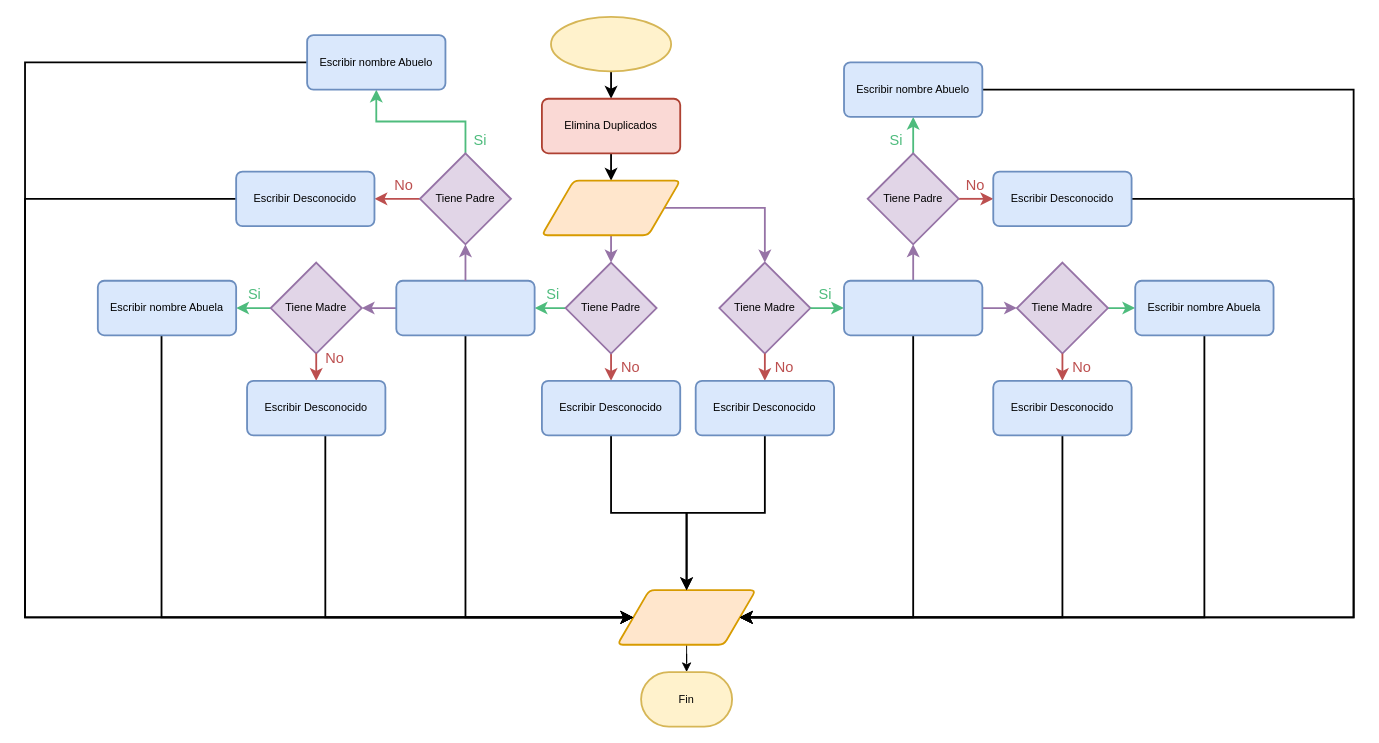
Image size: 1379x743. Some labels were removed from this diagram. The centre of each missing label's shape, as x and y in pixels:
"Comprueba Perro" goes at [611,207].
"Escribir nombre Madre" goes at [913,307].
"Escribir nombre Padre" goes at [465,307].
"Inicio" goes at [611,43].
"Muestra Familiares" goes at [686,617].
